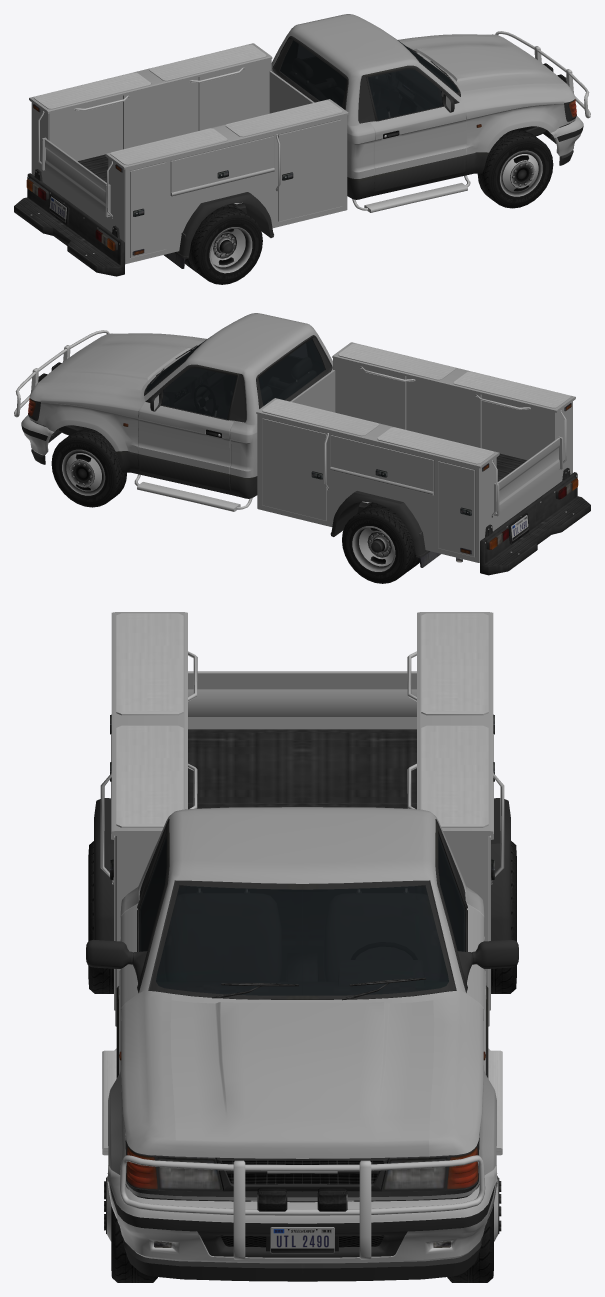
File: utility90.glb
3 renders of one model, top to bottom at view 1: azimuth 30°, elevation 25°; view 2: azimuth 150°, elevation 25°; view 3: azimuth 270°, elevation 25°, orthographic. The views are drawn at different scales.
Parts seen in each view (by area): view 1: UTLTRUCK90_Servisebed_UTLTRUCK90_Bodymat_0, UTLTRUCK90_Body_UTLTRUCK90_Bodymat_0, UTLTRUCK90_Servisebed_Trim_UCB_BOTTOM_0, UTLTRUCK90_bottom_UCB_BOTTOM_0, UTLTRUCK90_Hood_UTLTRUCK90_Bodymat_0, UTLTRUCK90_Interior_UCB_Interiors_1_0, UTLTRUCK90_Bumper_rear_UCB_BOTTOM_0, UTLTRUCK90_WheelStock_RR_RB1c_Tire_1k_0, UTLTRUCK90_WheelStock_FR_RB1c_Tire_1k_0, UTLTRUCK90_Glass_Passenger_UCB_Lights_and_Glass_Transperent_, UTLTRUCK90_Glass_Rear_UCB_Lights_and_Glass_Transperent_0, UTLTRUCK90_Bullbar_A_UCB_BOTTOM_0 (+3 smaller); view 2: UTLTRUCK90_Servisebed_UTLTRUCK90_Bodymat_0, UTLTRUCK90_Body_UTLTRUCK90_Bodymat_0, UTLTRUCK90_Servisebed_Trim_UCB_BOTTOM_0, UTLTRUCK90_bottom_UCB_BOTTOM_0, UTLTRUCK90_Hood_UTLTRUCK90_Bodymat_0, UTLTRUCK90_Bumper_rear_UCB_BOTTOM_0, UTLTRUCK90_Interior_UCB_Interiors_1_0, UTLTRUCK90_WheelStock_RL_RB1c_Tire_1k_0, UTLTRUCK90_WheelStock_FL_RB1c_Tire_1k_0, UTLTRUCK90_Glass_Driver_UCB_Lights_and_Glass_Transperent_0, UTLTRUCK90_Glass_Rear_UCB_Lights_and_Glass_Transperent_0, UTLTRUCK90_Bullbar_A_UCB_BOTTOM_0 (+2 smaller); view 3: UTLTRUCK90_Servisebed_Trim_UCB_BOTTOM_0, UTLTRUCK90_Body_UTLTRUCK90_Bodymat_0, UTLTRUCK90_Hood_UTLTRUCK90_Bodymat_0, UTLTRUCK90_Interior_UCB_Interiors_1_0, UTLTRUCK90_Windshield_UCB_Lights_and_Glass_Transperent_0, UTLTRUCK90_Servisebed_UTLTRUCK90_Bodymat_0, UTLTRUCK90_bottom_UCB_BOTTOM_0, UTLTRUCK90_Bumper_front_inner_UCB_BOTTOM_0, UTLTRUCK90_Bullbar_A_UCB_BOTTOM_0, UTLTRUCK90_Bumper_Front_UTLTRUCK90_Bodymat_0, UTLTRUCK90_Headlights_Glass_UCB_Lights_and_Glass_Transperent, UTLTRUCK90_Headlights_UCB_Lights_and_Glass_0 (+8 smaller).
Boxes of the visible parts, box(x1,y1,x2,y2) form: UTLTRUCK90_Servisebed_UTLTRUCK90_Bodymat_0: box(29, 43, 348, 264); UTLTRUCK90_Body_UTLTRUCK90_Bodymat_0: box(271, 14, 575, 178); UTLTRUCK90_Servisebed_Trim_UCB_BOTTOM_0: box(29, 44, 342, 258); UTLTRUCK90_bottom_UCB_BOTTOM_0: box(164, 36, 576, 268); UTLTRUCK90_Hood_UTLTRUCK90_Bodymat_0: box(402, 36, 566, 91); UTLTRUCK90_Interior_UCB_Interiors_1_0: box(280, 36, 456, 123); UTLTRUCK90_Bumper_rear_UCB_BOTTOM_0: box(14, 169, 124, 276); UTLTRUCK90_WheelStock_RR_RB1c_Tire_1k_0: box(185, 203, 262, 284); UTLTRUCK90_WheelStock_FR_RB1c_Tire_1k_0: box(477, 130, 553, 208); UTLTRUCK90_Glass_Passenger_UCB_Lights_and_Glass_Transperent_: box(368, 69, 442, 120); UTLTRUCK90_Glass_Rear_UCB_Lights_and_Glass_Transperent_0: box(280, 40, 346, 106); UTLTRUCK90_Bullbar_A_UCB_BOTTOM_0: box(495, 31, 590, 118); UTLTRUCK90_Servisebed_UTLTRUCK90_Bodymat_0: box(256, 342, 575, 562); UTLTRUCK90_Body_UTLTRUCK90_Bodymat_0: box(29, 313, 332, 477); UTLTRUCK90_Servisebed_Trim_UCB_BOTTOM_0: box(262, 343, 575, 557); UTLTRUCK90_bottom_UCB_BOTTOM_0: box(28, 335, 462, 567); UTLTRUCK90_Hood_UTLTRUCK90_Bodymat_0: box(38, 335, 202, 390); UTLTRUCK90_Bumper_rear_UCB_BOTTOM_0: box(480, 468, 590, 575); UTLTRUCK90_Interior_UCB_Interiors_1_0: box(148, 340, 323, 418); UTLTRUCK90_WheelStock_RL_RB1c_Tire_1k_0: box(342, 502, 419, 583); UTLTRUCK90_WheelStock_FL_RB1c_Tire_1k_0: box(51, 429, 126, 507); UTLTRUCK90_Glass_Driver_UCB_Lights_and_Glass_Transperent_0: box(162, 368, 236, 419); UTLTRUCK90_Glass_Rear_UCB_Lights_and_Glass_Transperent_0: box(258, 339, 325, 405); UTLTRUCK90_Bullbar_A_UCB_BOTTOM_0: box(14, 330, 109, 417); UTLTRUCK90_Servisebed_Trim_UCB_BOTTOM_0: box(94, 613, 510, 940); UTLTRUCK90_Body_UTLTRUCK90_Bodymat_0: box(108, 807, 496, 1200); UTLTRUCK90_Hood_UTLTRUCK90_Bodymat_0: box(170, 1000, 434, 1158); UTLTRUCK90_Interior_UCB_Interiors_1_0: box(141, 842, 463, 994); UTLTRUCK90_Windshield_UCB_Lights_and_Glass_Transperent_0: box(156, 885, 448, 995); UTLTRUCK90_Servisebed_UTLTRUCK90_Bodymat_0: box(111, 612, 493, 1026); UTLTRUCK90_bottom_UCB_BOTTOM_0: box(86, 819, 518, 1202); UTLTRUCK90_Bumper_front_inner_UCB_BOTTOM_0: box(107, 1181, 497, 1281); UTLTRUCK90_Bullbar_A_UCB_BOTTOM_0: box(119, 1155, 485, 1259); UTLTRUCK90_Bumper_Front_UTLTRUCK90_Bodymat_0: box(107, 1165, 497, 1223); UTLTRUCK90_Headlights_Glass_UCB_Lights_and_Glass_Transperent: box(126, 1147, 478, 1190); UTLTRUCK90_Headlights_UCB_Lights_and_Glass_0: box(158, 1158, 446, 1189).
Size of the model in its own units: 5.37 by 1.66 by 2.
7 materials, 6 textured.
